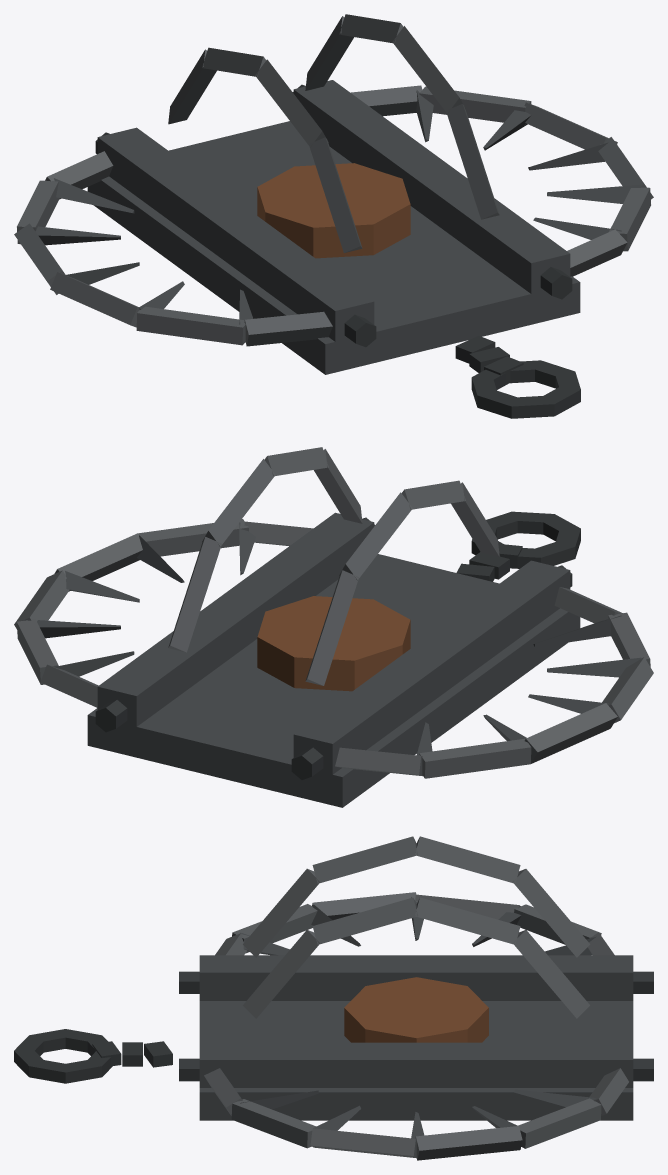
Rendered from trap_bear_open.glb.
3 renders of one model, top to bottom at view 1: azimuth 30°, elevation 25°; view 2: azimuth 150°, elevation 25°; view 3: azimuth 270°, elevation 25°, orthographic. The views are drawn at different scales.
Parts seen in each view (by area): view 1: Base, JawL, JawR, Pan; view 2: Base, JawL, JawR, Pan; view 3: Base, JawR, Pan, JawL.
Part boxes in pixels (x1,y1,x2,y2): Base: [87, 14, 580, 418]; JawL: [14, 151, 332, 346]; JawR: [351, 85, 653, 276]; Pan: [257, 163, 410, 258]; Base: [87, 447, 580, 807]; JawL: [335, 587, 653, 778]; JawR: [14, 519, 313, 707]; Pan: [257, 596, 410, 691]; Base: [14, 836, 653, 1120]; JawR: [204, 1068, 628, 1160]; Pan: [344, 977, 488, 1042]; JawL: [215, 892, 614, 955].
Bounding box in the file's own units: 0.5827 × 0.2105 × 0.62.
